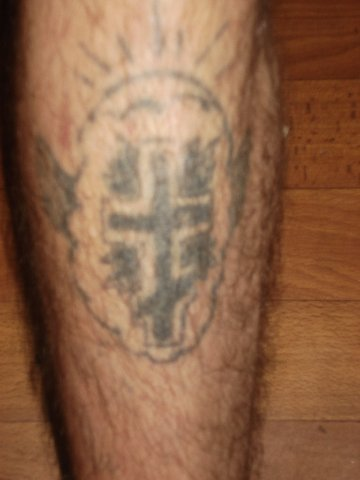tatu9_krest: (114, 139, 217, 345)
